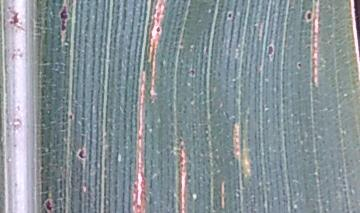tarspot: (58, 3, 71, 49), (5, 5, 22, 29), (75, 146, 90, 163), (265, 39, 276, 61), (42, 195, 55, 213), (304, 7, 315, 26), (64, 109, 76, 124), (223, 9, 235, 22), (188, 65, 197, 81), (154, 24, 163, 37), (295, 59, 304, 71), (178, 38, 186, 50), (177, 134, 185, 145)
